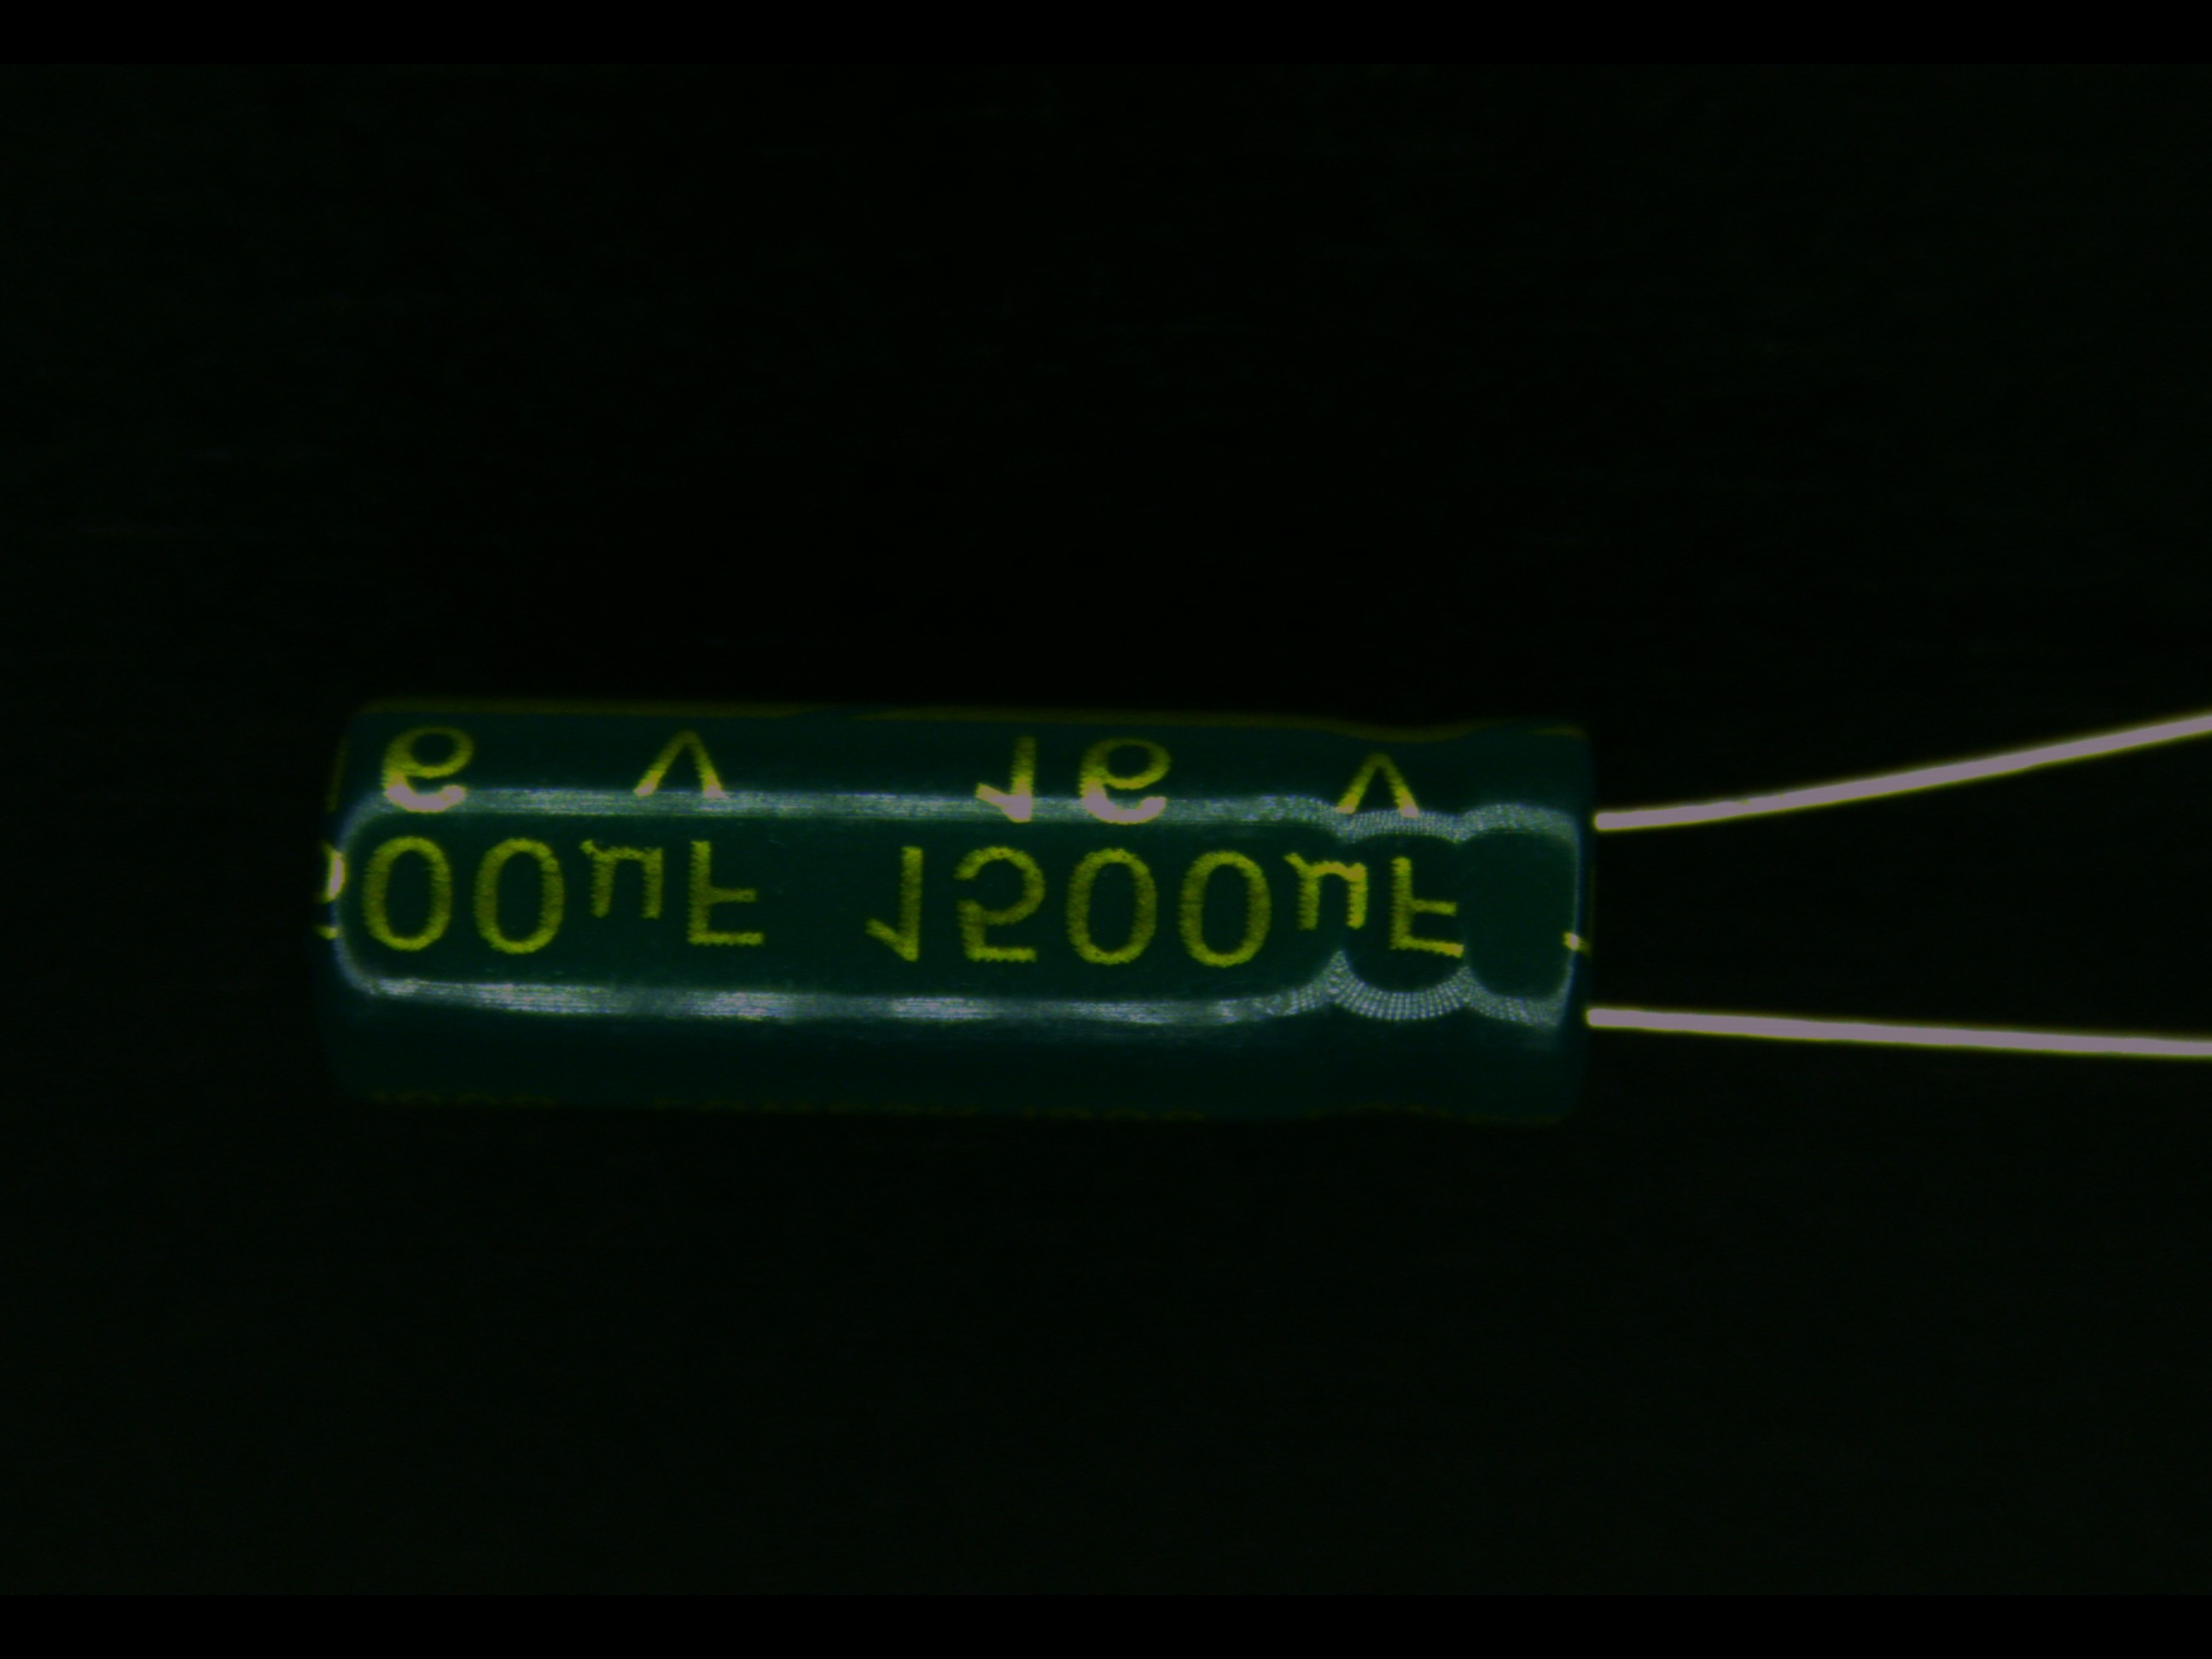c1: (303, 702, 1872, 1124)
